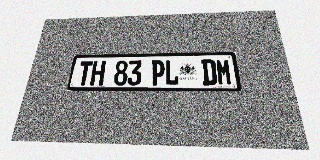3: (127, 60, 142, 85)
8: (113, 60, 129, 85)
D: (201, 59, 217, 85)
H: (90, 61, 106, 86)
L: (165, 60, 179, 85)
M: (215, 59, 233, 85)
P: (150, 60, 165, 85)
T: (76, 61, 93, 86)
